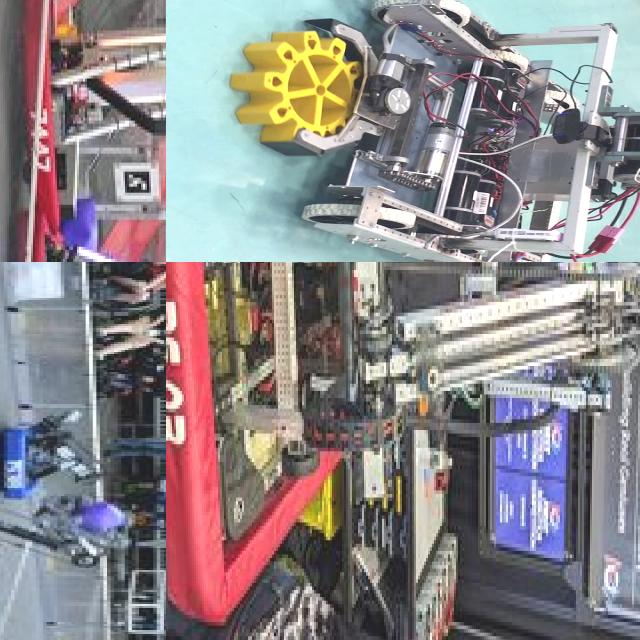FRC-Robots: (166, 262, 640, 616), (245, 0, 640, 262), (20, 0, 166, 233), (0, 491, 124, 592), (0, 412, 112, 498)
